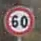limite 60: (3, 4, 34, 36)
